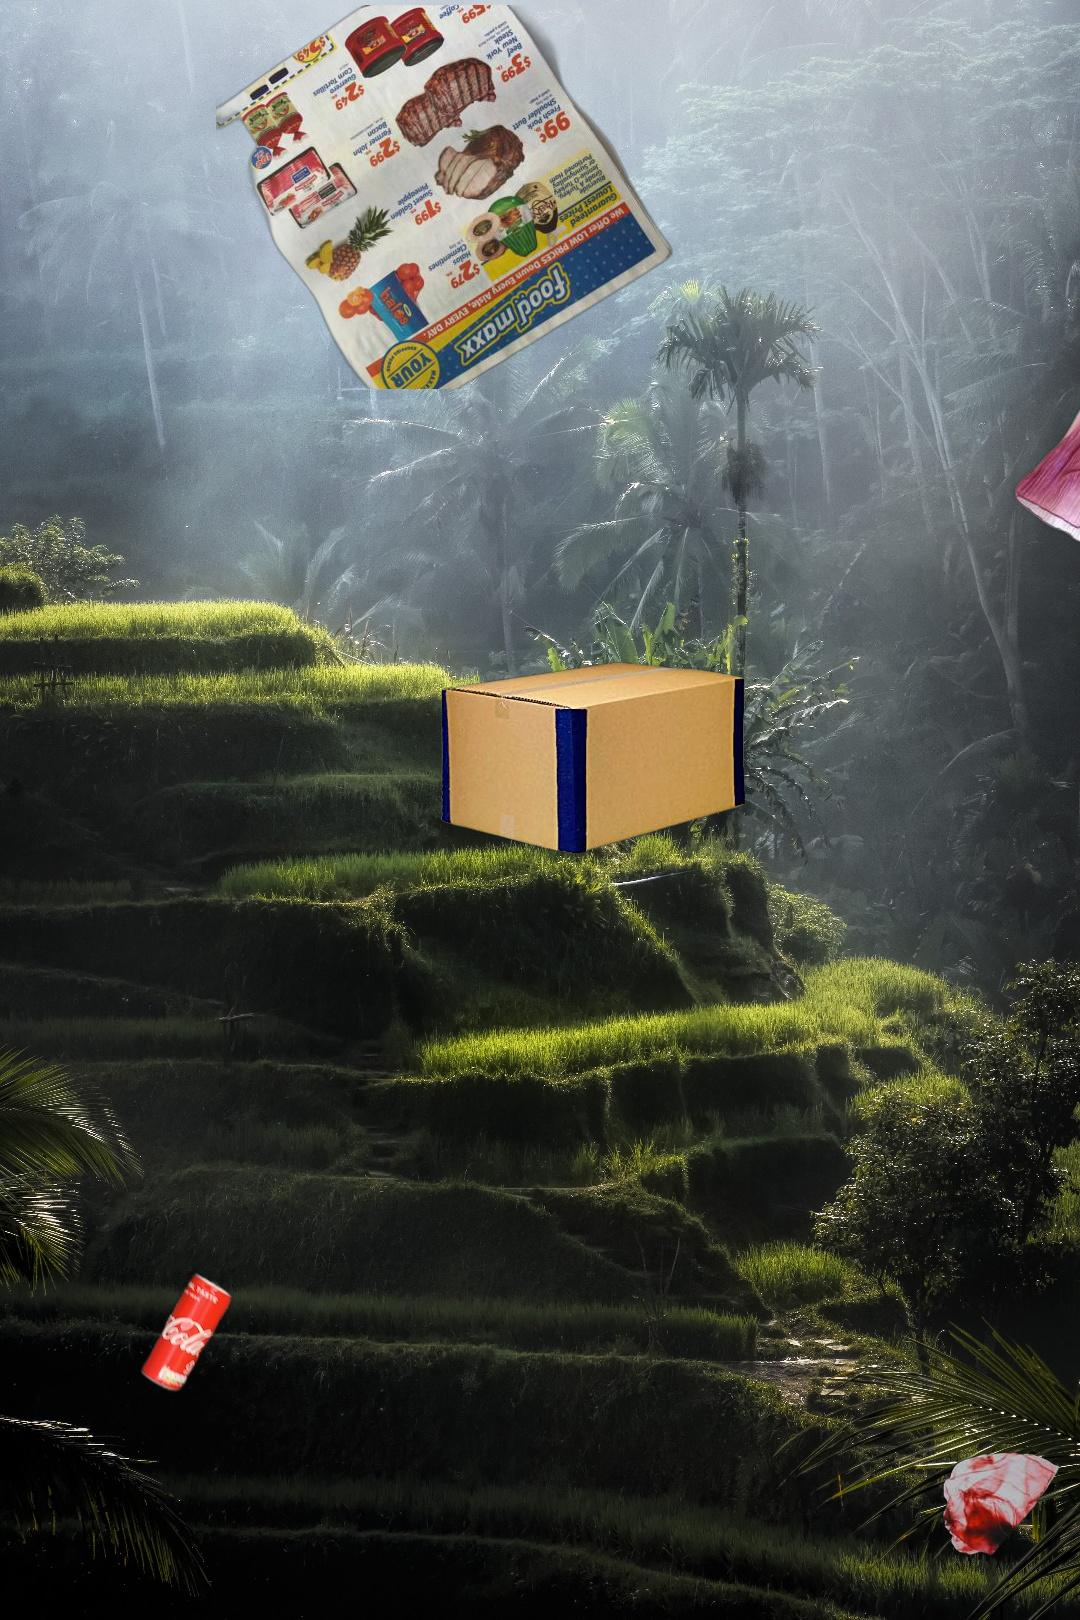clothes: (1009, 294, 1080, 585)
metal-cans: (137, 1264, 237, 1397)
paper: (216, 5, 677, 389)
penholder: (542, 1546, 1080, 1620)
plastic-bag: (940, 1450, 1066, 1559)
trashbox-cardboard: (436, 659, 747, 858)
